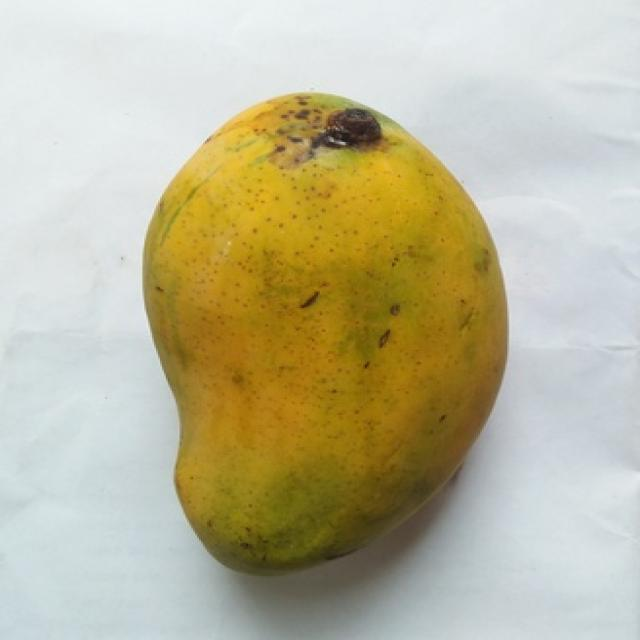Mango: (144, 94, 505, 570)
